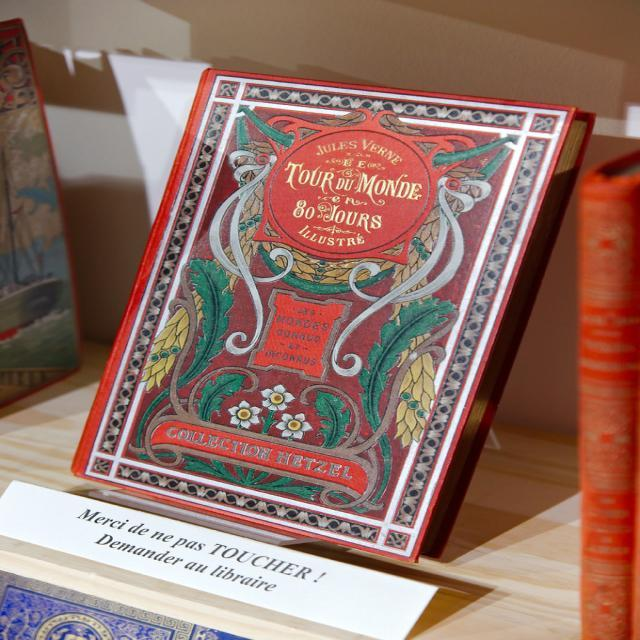book: (71, 66, 602, 568)
